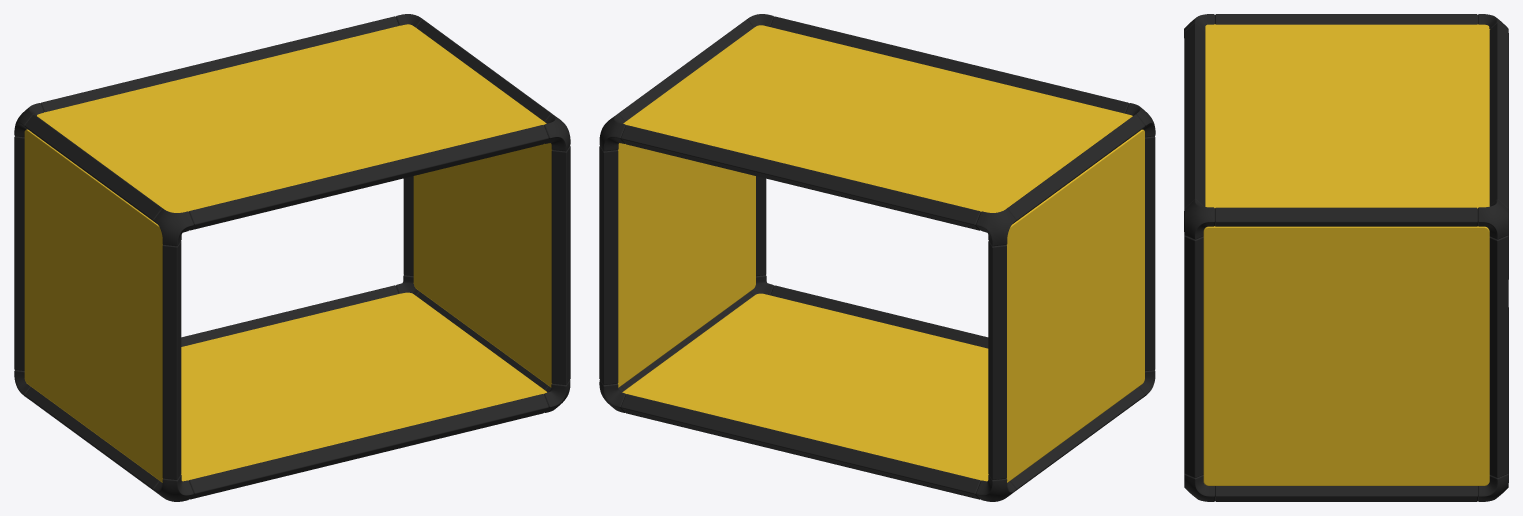
The picture shows the model from 3 angles, left to right: view 1: azimuth 30°, elevation 25°; view 2: azimuth 150°, elevation 25°; view 3: azimuth 270°, elevation 25°; orthographic projection.
Visible parts, largest first — view 1: 523x329x329; view 2: 523x329x329; view 3: 523x329x329.
Boxes of the visible parts, x1,y1,x2,y2 form: 523x329x329: [14, 14, 570, 501]; 523x329x329: [599, 14, 1155, 501]; 523x329x329: [1184, 14, 1508, 501].
Size of the model in its own units: 0.6007 by 0.4066 by 0.4063.
